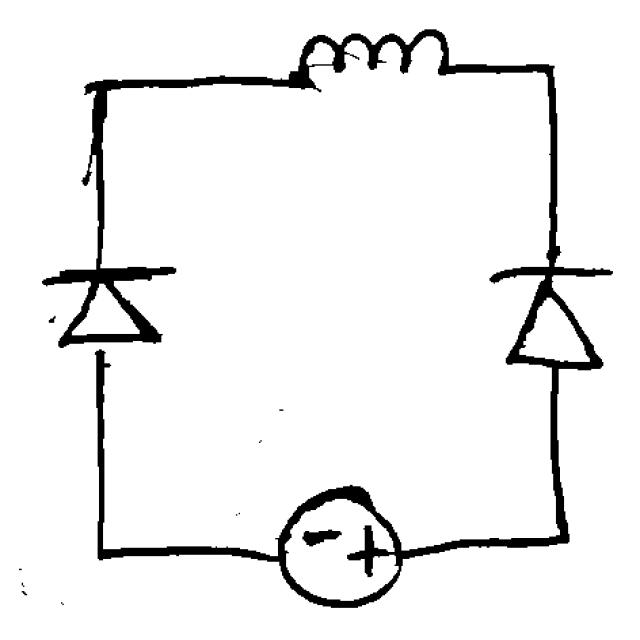dc: (261, 472, 411, 619)
diode: (476, 243, 619, 382), (34, 242, 191, 364)
inductor: (272, 18, 472, 108)
